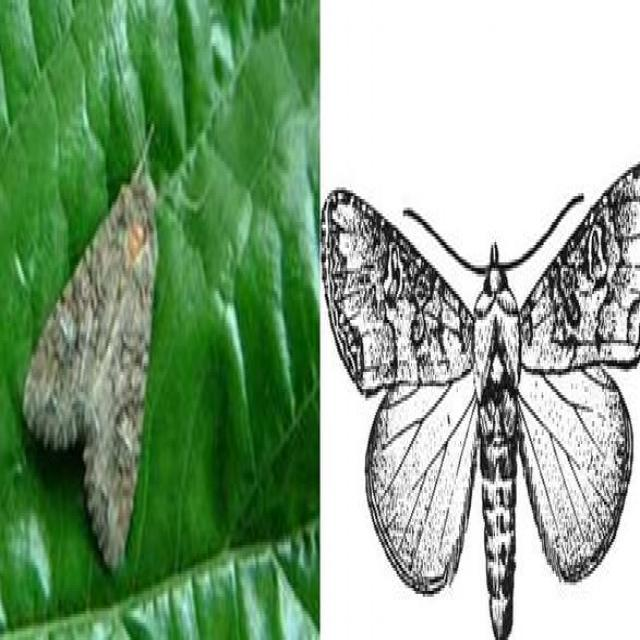armyworm: (322, 151, 640, 640), (11, 118, 175, 594)
